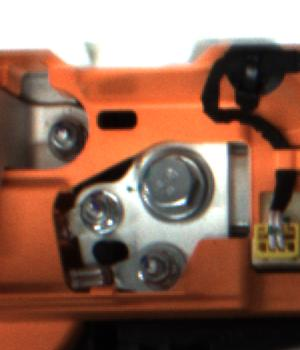screw_s: (36, 119, 86, 161), (135, 248, 184, 287), (80, 192, 125, 233)
